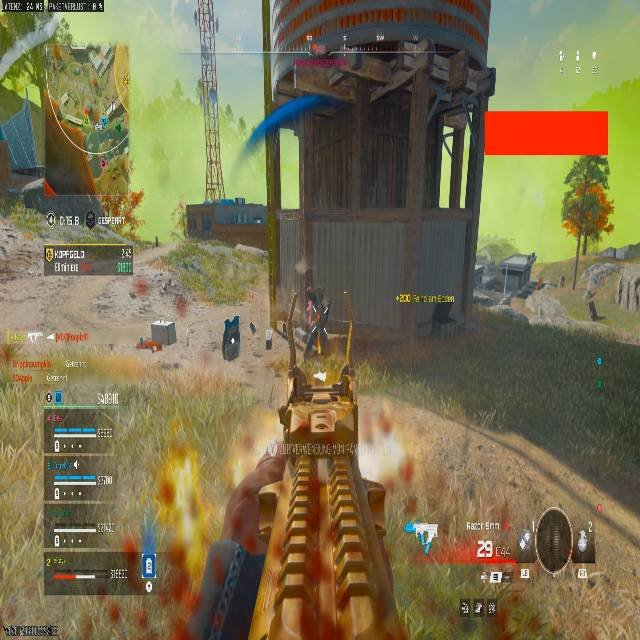player: (562, 159, 613, 257), (292, 285, 330, 361), (583, 286, 598, 320)
